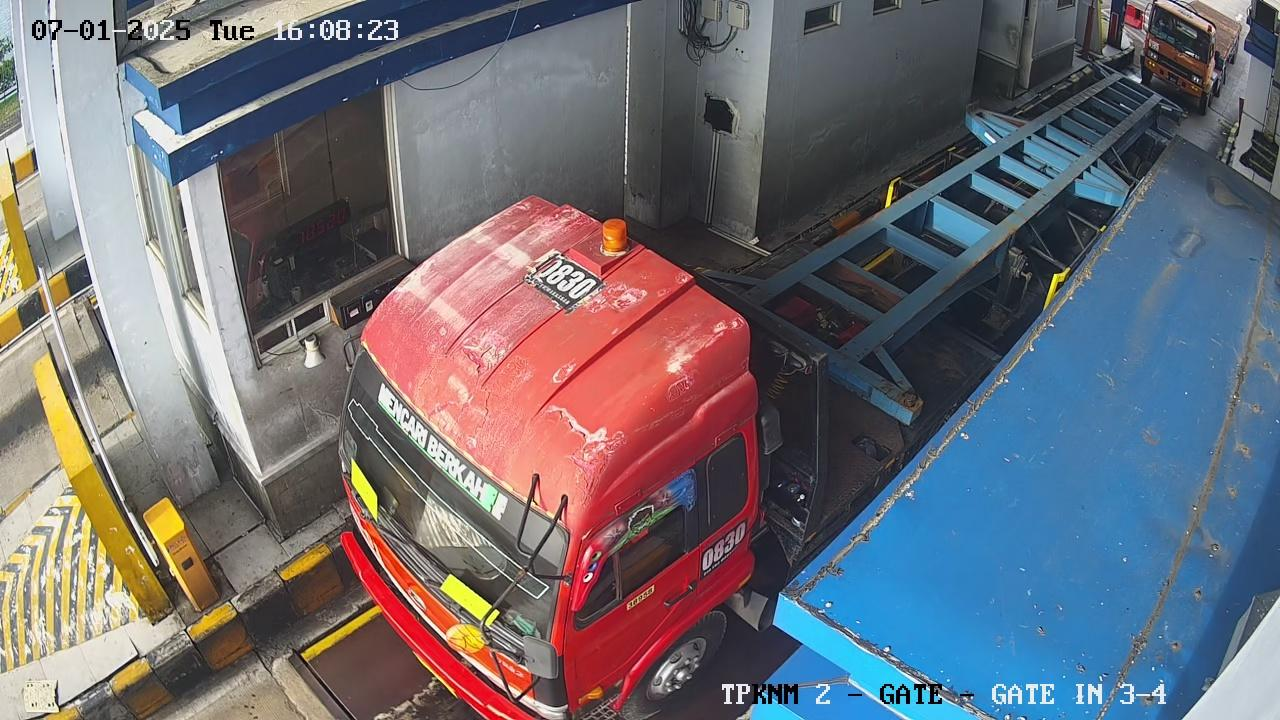truck_id: (524, 250, 603, 312), (700, 518, 748, 577)
